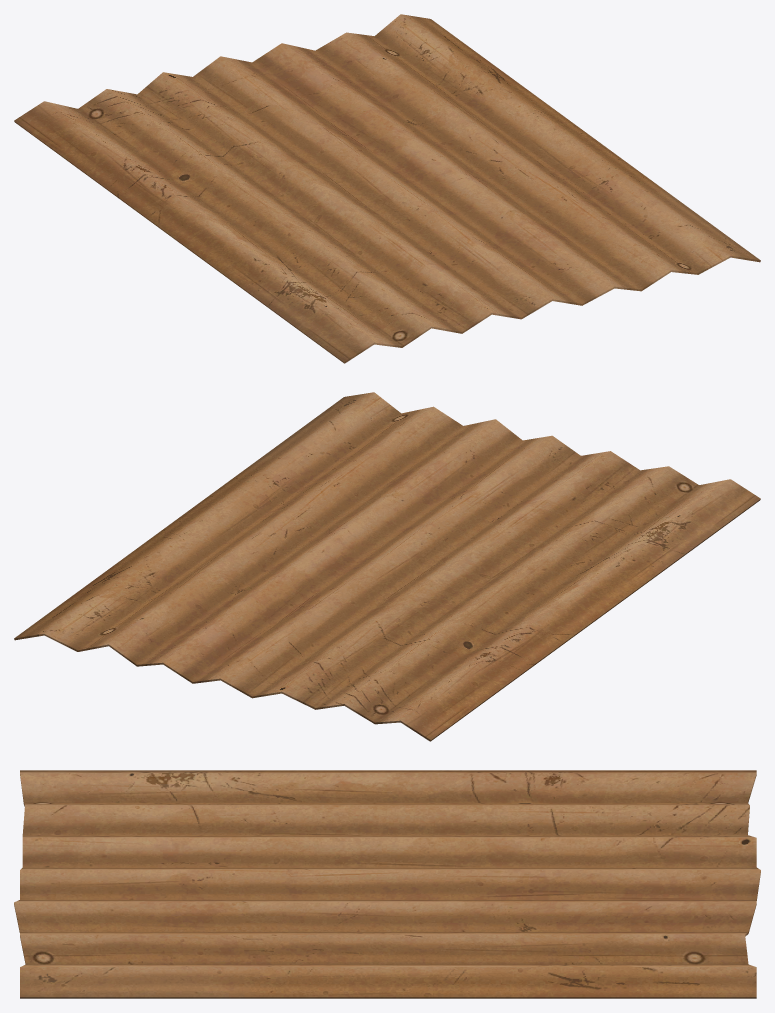
The model's file is SM_corrugated_sheet_01.glb.
3 views of the same model, one above another, from view 1: azimuth 30°, elevation 25°; view 2: azimuth 150°, elevation 25°; view 3: azimuth 270°, elevation 25° (orthographic). The views are drawn at different scales.
Visible parts, largest first — view 1: SM_corrugated_sheet_01; view 2: SM_corrugated_sheet_01; view 3: SM_corrugated_sheet_01.
Part boxes in pixels (x1,y1,x2,y2): SM_corrugated_sheet_01: (14,14,760,363); SM_corrugated_sheet_01: (14,392,760,741); SM_corrugated_sheet_01: (14,770,760,998).
Size of the model in its own units: 1.6 by 0.0509 by 2.23.
Materials: 1 (1 with a texture image).
